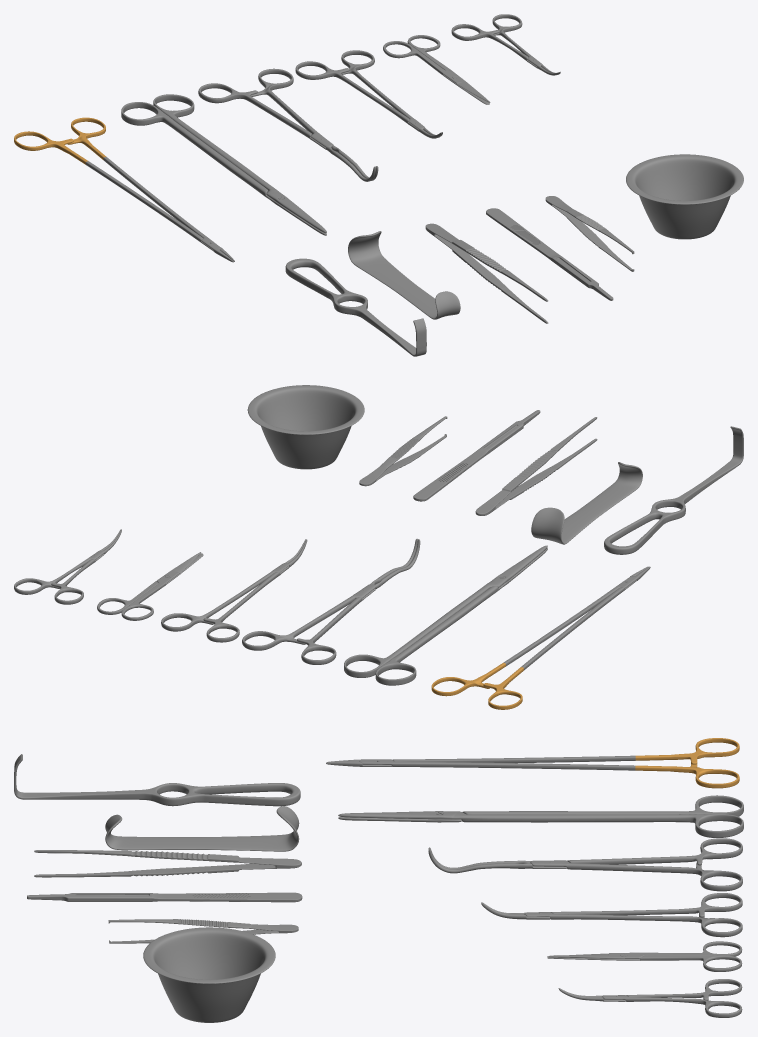
File: All_Instruments.fbx
3 renders of one model, top to bottom at view 1: azimuth 30°, elevation 25°; view 2: azimuth 150°, elevation 25°; view 3: azimuth 270°, elevation 25°, orthographic. The views are drawn at different scales.
Visible parts, largest first — view 1: Bowl, Dissection Scissors Metzenbaum, Retractor Roux, Needle holder DeBakey, Ligature clamp De Bakey, Retractor Langenbeck, Atraumatic tweezers DeBakey, Clamp Overholt-Geissend, Scalpel handle Nr. 3, Surgical scissors, Surgical Tweezers, Peritoneum clamp Baby-Mikulicz; view 2: Bowl, Dissection Scissors Metzenbaum, Retractor Roux, Needle holder DeBakey, Ligature clamp De Bakey, Retractor Langenbeck, Clamp Overholt-Geissend, Atraumatic tweezers DeBakey, Scalpel handle Nr. 3, Peritoneum clamp Baby-Mikulicz, Surgical scissors, Surgical Tweezers; view 3: Bowl, Dissection Scissors Metzenbaum, Needle holder DeBakey, Retractor Langenbeck, Ligature clamp De Bakey, Retractor Roux, Atraumatic tweezers DeBakey, Clamp Overholt-Geissend, Scalpel handle Nr. 3, Peritoneum clamp Baby-Mikulicz, Surgical scissors, Surgical Tweezers.
Boxes of the visible parts, x1,y1,x2,y2 form: Bowl: [626, 154, 743, 239]; Dissection Scissors Metzenbaum: [121, 94, 326, 235]; Retractor Roux: [348, 231, 460, 319]; Needle holder DeBakey: [14, 117, 234, 262]; Ligature clamp De Bakey: [198, 68, 378, 181]; Retractor Langenbeck: [285, 258, 426, 356]; Atraumatic tweezers DeBakey: [425, 223, 548, 323]; Clamp Overholt-Geissend: [295, 50, 442, 138]; Scalpel handle Nr. 3: [486, 208, 613, 300]; Surgical scissors: [383, 35, 490, 104]; Surgical Tweezers: [545, 196, 634, 271]; Peritoneum clamp Baby-Mikulicz: [451, 14, 560, 75]; Bowl: [247, 385, 364, 469]; Dissection Scissors Metzenbaum: [344, 545, 547, 685]; Retractor Roux: [531, 462, 642, 544]; Needle holder DeBakey: [431, 566, 650, 709]; Ligature clamp De Bakey: [242, 538, 420, 664]; Retractor Langenbeck: [604, 426, 743, 554]; Clamp Overholt-Geissend: [161, 539, 307, 642]; Atraumatic tweezers DeBakey: [475, 417, 597, 515]; Scalpel handle Nr. 3: [413, 410, 540, 501]; Peritoneum clamp Baby-Mikulicz: [14, 529, 121, 604]; Surgical scissors: [97, 552, 203, 620]; Surgical Tweezers: [359, 416, 447, 486]; Bowl: [143, 927, 275, 1022]; Dissection Scissors Metzenbaum: [338, 795, 743, 837]; Needle holder DeBakey: [326, 738, 739, 788]; Retractor Langenbeck: [14, 754, 300, 806]; Ligature clamp De Bakey: [428, 838, 742, 891]; Retractor Roux: [105, 806, 299, 851]; Atraumatic tweezers DeBakey: [34, 850, 301, 877]; Clamp Overholt-Geissend: [481, 893, 742, 937]; Scalpel handle Nr. 3: [27, 892, 302, 902]; Peritoneum clamp Baby-Mikulicz: [558, 979, 742, 1017]; Surgical scissors: [547, 941, 742, 971]; Surgical Tweezers: [108, 919, 298, 943].
Bounding box in the file's own units: 49.9 × 5.12 × 55.7.
